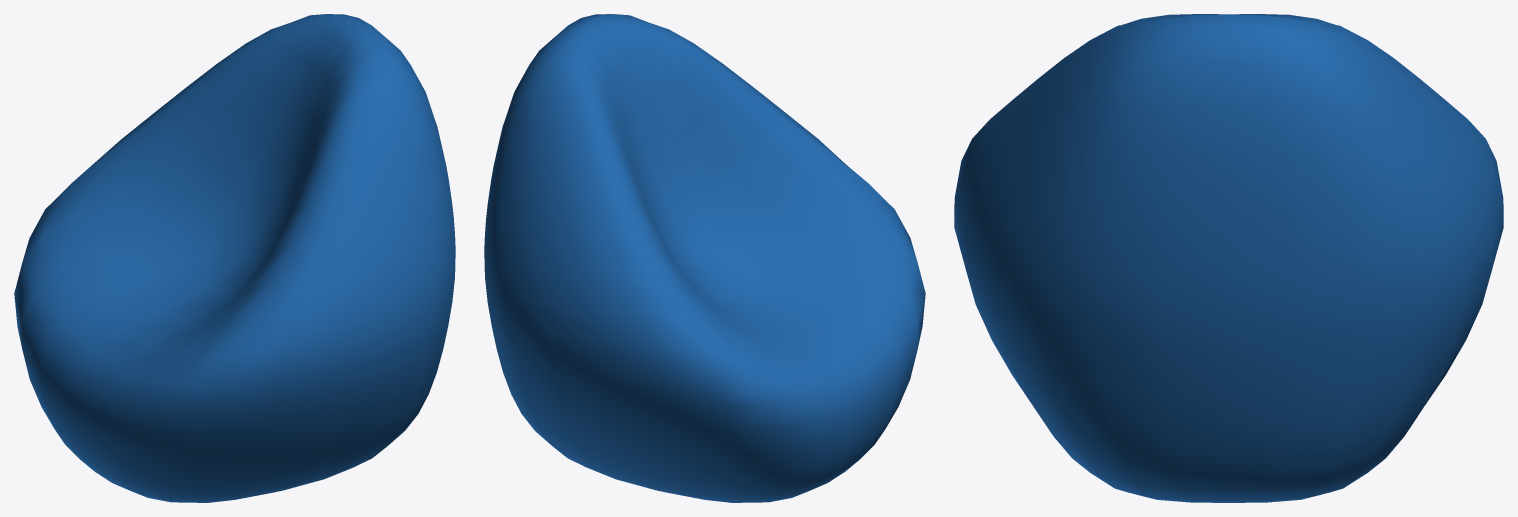
Rendered from beanbag_02_blue.fbx.
3 views of the same model, side by side, from view 1: azimuth 30°, elevation 25°; view 2: azimuth 150°, elevation 25°; view 3: azimuth 270°, elevation 25° (orthographic). The views are drawn at different scales.
Parts seen in each view (by area): view 1: beanbag_02_blue; view 2: beanbag_02_blue; view 3: beanbag_02_blue.
Boxes of the visible parts, x1,y1,x2,y2 form: beanbag_02_blue: (14,14,455,502); beanbag_02_blue: (484,14,925,502); beanbag_02_blue: (954,14,1503,502).
Bounding box in the file's own units: 87.11 × 97.36 × 93.71.
1 material, 1 textured.
